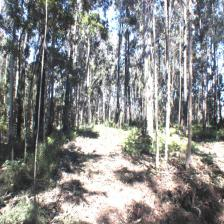trunktrack_idkeyframe: (184, 93, 192, 168), (154, 119, 158, 168)
